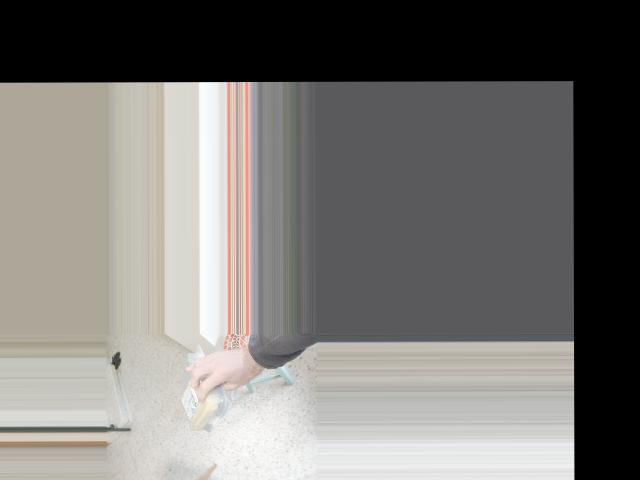cheese: (179, 369, 221, 434)
